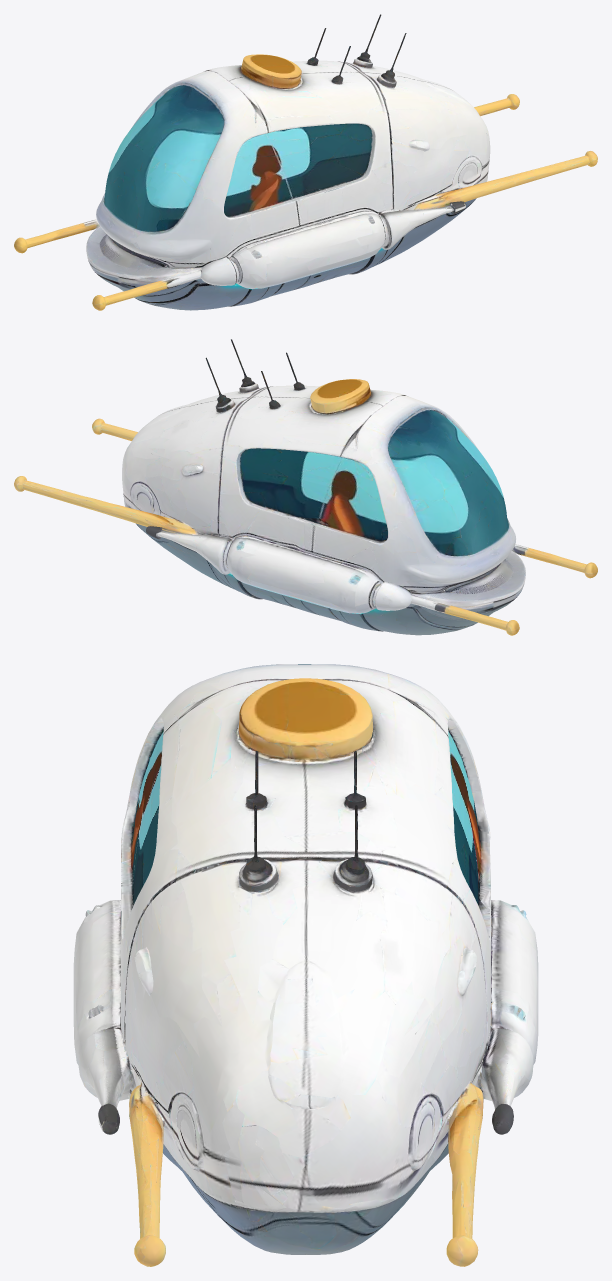
The model's file is transit-skyrail-pod.glb.
3 views of the same model, one above another, from view 1: azimuth 30°, elevation 25°; view 2: azimuth 150°, elevation 25°; view 3: azimuth 270°, elevation 25° (orthographic). The views are drawn at different scales.
Parts seen in each view (by area): view 1: Mesh_0; view 2: Mesh_0; view 3: Mesh_0.
Boxes of the visible parts, bbox=[...] form: Mesh_0: bbox=[14, 14, 597, 310]; Mesh_0: bbox=[14, 339, 597, 635]; Mesh_0: bbox=[73, 664, 538, 1266].
Size of the model in its own units: 1.9 by 0.8376 by 0.7581.
1 material, 1 textured.
